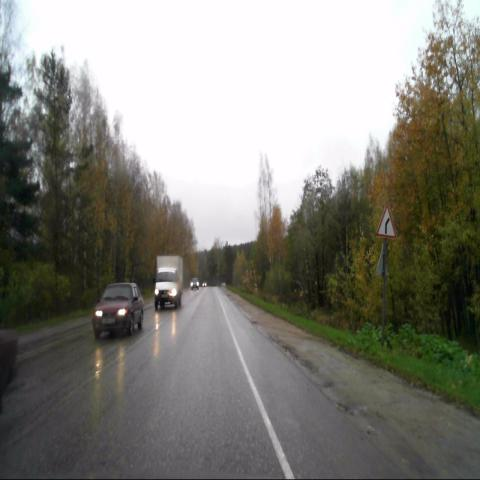1_11: (376, 204, 396, 240)
